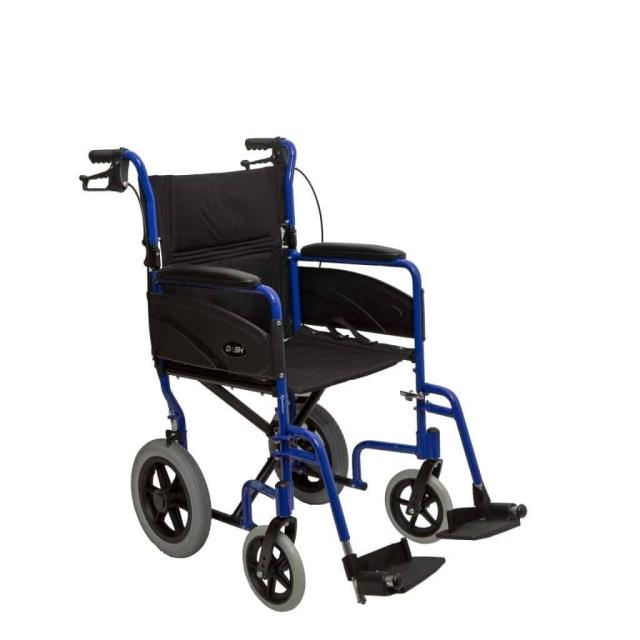wheelchair: (63, 108, 563, 640)
